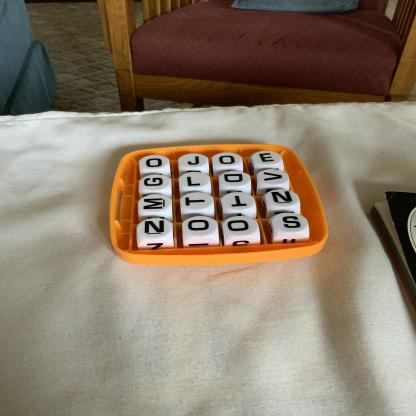d: (221, 172, 251, 188)
e: (254, 152, 283, 166)
g: (140, 176, 172, 192)
j: (179, 155, 209, 169)
l: (180, 173, 211, 189)
m: (139, 196, 172, 214)
n: (138, 220, 173, 240), (267, 191, 300, 208)
o: (223, 217, 259, 237), (184, 217, 219, 237), (140, 156, 169, 171), (213, 153, 243, 167)
s: (273, 214, 309, 234)
t: (223, 193, 256, 211), (181, 193, 214, 211)
v: (259, 170, 289, 185)
